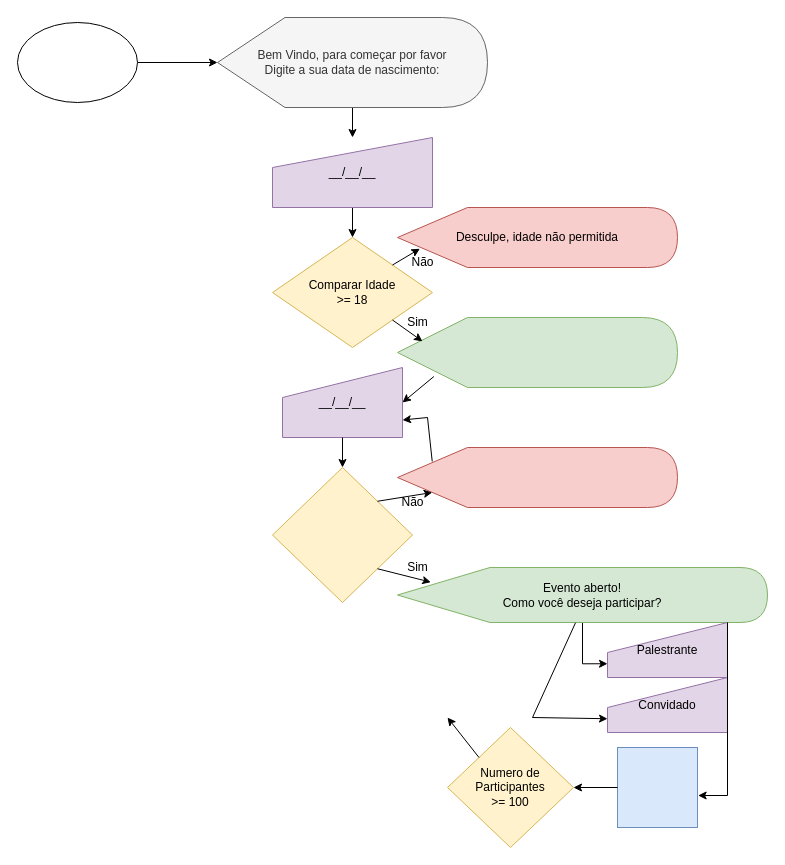
This 785x865 diagram has some shape labels left out. The box of each missing label's shape, as (x1, y1, x2, y2) in pixels:
A Data é poserior a data atual? __/__/__: (272, 466, 412, 602)
Data Invalida, Por favor digitar nova data?: (396, 446, 678, 508)
Inicio: (16, 22, 138, 102)
Listar Participantes: (616, 746, 698, 828)
Muito Bem, agora digite a data do evento que deseja participar: (396, 316, 678, 388)
